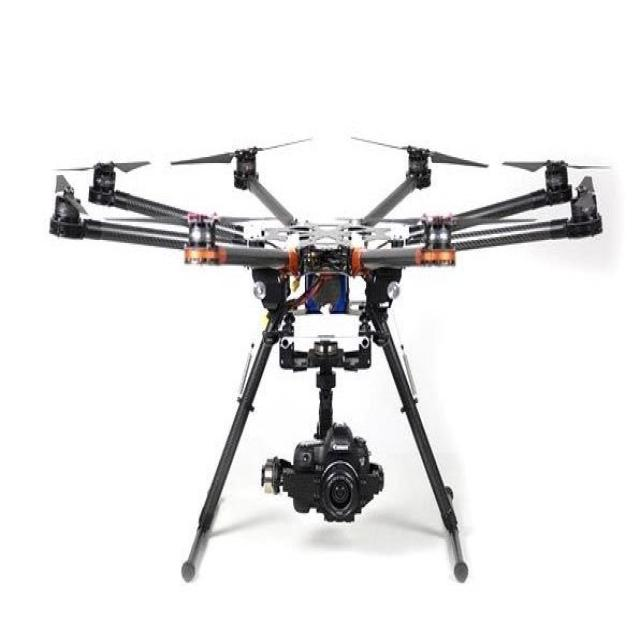drone: (30, 122, 625, 397)
